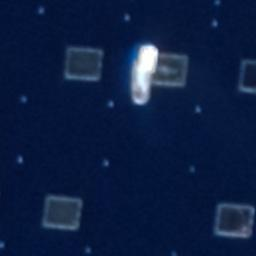square_cover: (39, 191, 84, 234), (145, 49, 192, 90), (211, 198, 254, 241), (61, 42, 105, 84)
